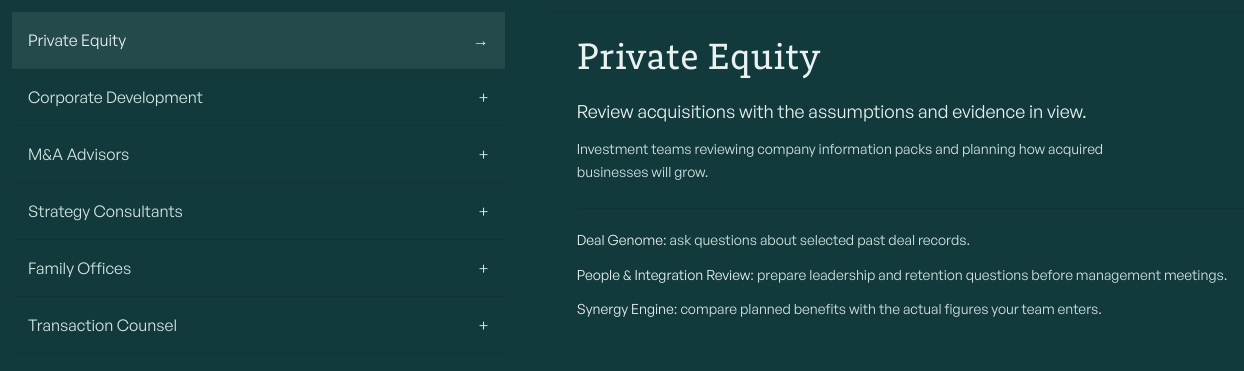
audience choices › keeps all choices available and associates the selected detail with its tab
Click the tab "M&A Advisors +": coordinates (79, 154) [12,126,505,183]
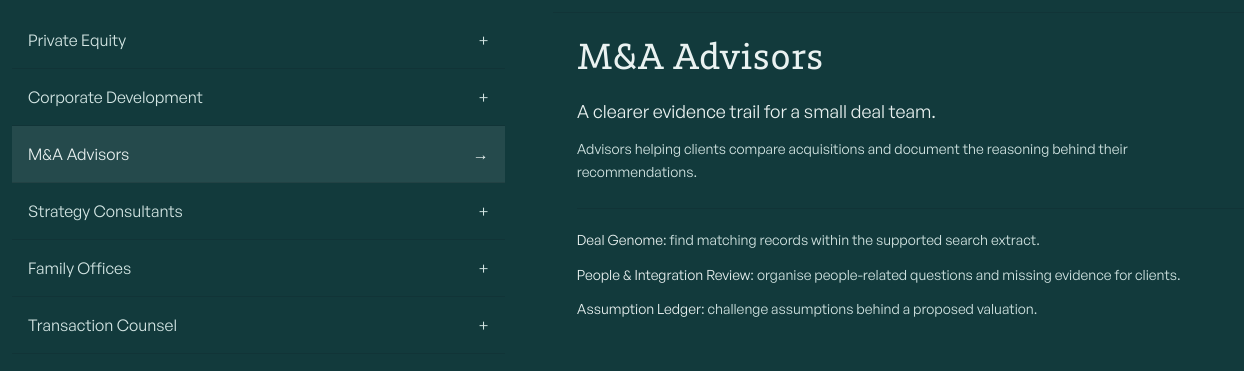
expect the panel shows "challenge assumptions behind a proposed valuation": met, box [707,300,1034,317]
